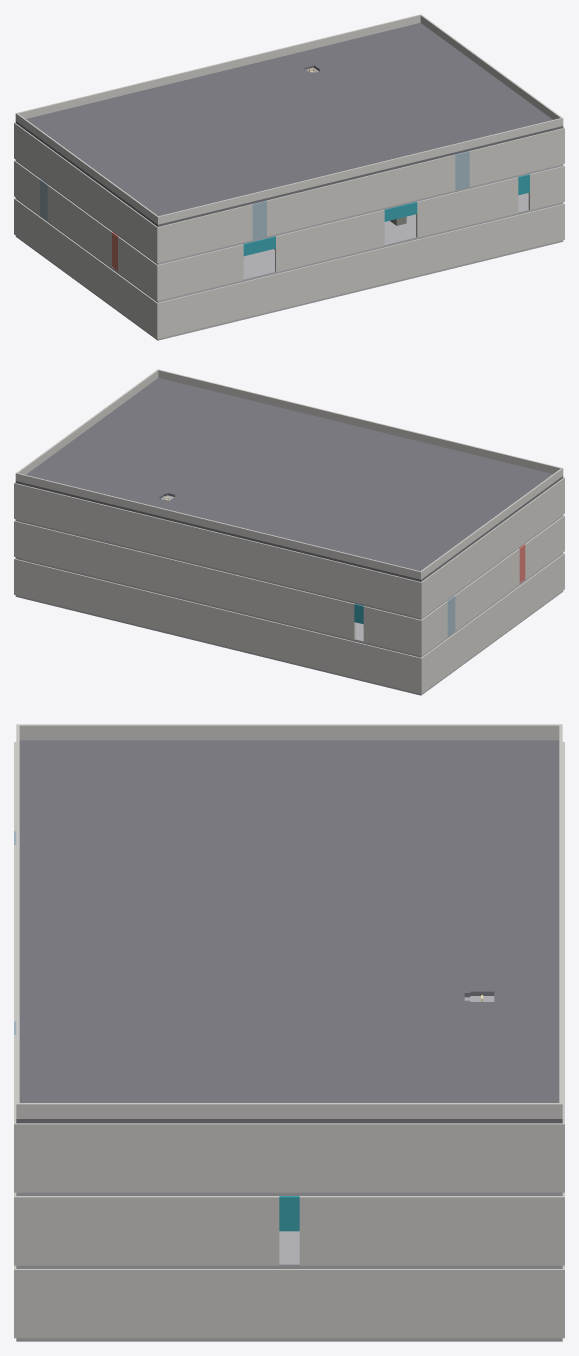
The model's file is large_warehouse_a03.glb.
3 views of the same model, one above another, from view 1: azimuth 30°, elevation 25°; view 2: azimuth 150°, elevation 25°; view 3: azimuth 270°, elevation 25° (orthographic). The views are drawn at different scales.
Visible parts, largest first — view 1: slab_2_t4_5, slab_2_t1_1, slab_2_t2_2, slab_2_t2_3, slab_2_t3_9, slab_2_t3_10, slab_2_t4_7, slab_2_t5_6, slab_2_t5_9, slab_2_t1_6, slab_2_t1_7, slab_2_t1_8 (+151 smaller); view 2: slab_2_t2_5, slab_2_t1_6, slab_2_t1_7, slab_2_t1_9, slab_2_t2_7, slab_2_t3_9, slab_2_t3_10, slab_2_t4_2, slab_2_t4_3, slab_2_t5_1, slab_2_t1_1, slab_2_t1_2 (+155 smaller); view 3: slab_2_t5_7, slab_2_t3_1, slab_2_t3_4, slab_2_t3_7, slab_2_t3_10, slab_2_t1_1, slab_2_t2_1, slab_2_t4_1, slab_2_t5_1, slab_2_t1_4, slab_2_t1_7, slab_2_t1_10 (+138 smaller).
Boxes of the visible parts, x1,y1,x2,y2 form: slab_2_t4_5: (225, 101, 278, 123); slab_2_t1_1: (151, 178, 204, 201); slab_2_t2_2: (165, 155, 217, 178); slab_2_t2_3: (198, 147, 251, 170); slab_2_t3_9: (381, 83, 434, 105); slab_2_t3_10: (415, 74, 468, 97); slab_2_t4_7: (293, 84, 346, 107); slab_2_t5_6: (239, 78, 292, 100); slab_2_t5_9: (340, 53, 393, 76); slab_2_t1_6: (320, 137, 373, 160); slab_2_t1_7: (354, 129, 407, 151); slab_2_t1_8: (388, 121, 441, 143); slab_2_t2_5: (300, 456, 353, 478); slab_2_t1_6: (286, 433, 339, 455); slab_2_t1_7: (252, 424, 305, 447); slab_2_t1_9: (185, 408, 238, 431); slab_2_t2_7: (232, 439, 285, 462); slab_2_t3_9: (144, 438, 197, 460); slab_2_t3_10: (110, 429, 163, 452); slab_2_t4_2: (361, 510, 413, 533); slab_2_t4_3: (327, 502, 380, 525); slab_2_t5_1: (374, 533, 427, 556); slab_2_t1_1: (455, 474, 508, 496); slab_2_t1_2: (421, 466, 474, 488); slab_2_t5_7: (406, 960, 484, 995); slab_2_t3_1: (250, 770, 328, 802); slab_2_t3_4: (250, 865, 328, 897); slab_2_t3_7: (250, 960, 328, 992); slab_2_t3_10: (250, 1055, 328, 1087); slab_2_t1_1: (94, 770, 172, 802); slab_2_t2_1: (172, 770, 250, 802); slab_2_t4_1: (328, 770, 406, 802); slab_2_t5_1: (406, 770, 484, 802); slab_2_t1_4: (94, 865, 172, 897); slab_2_t1_7: (94, 960, 172, 992); slab_2_t1_10: (94, 1055, 172, 1087).
Size of what is drawn, in the model's own units: 56.3 by 16.3 by 34.3.
